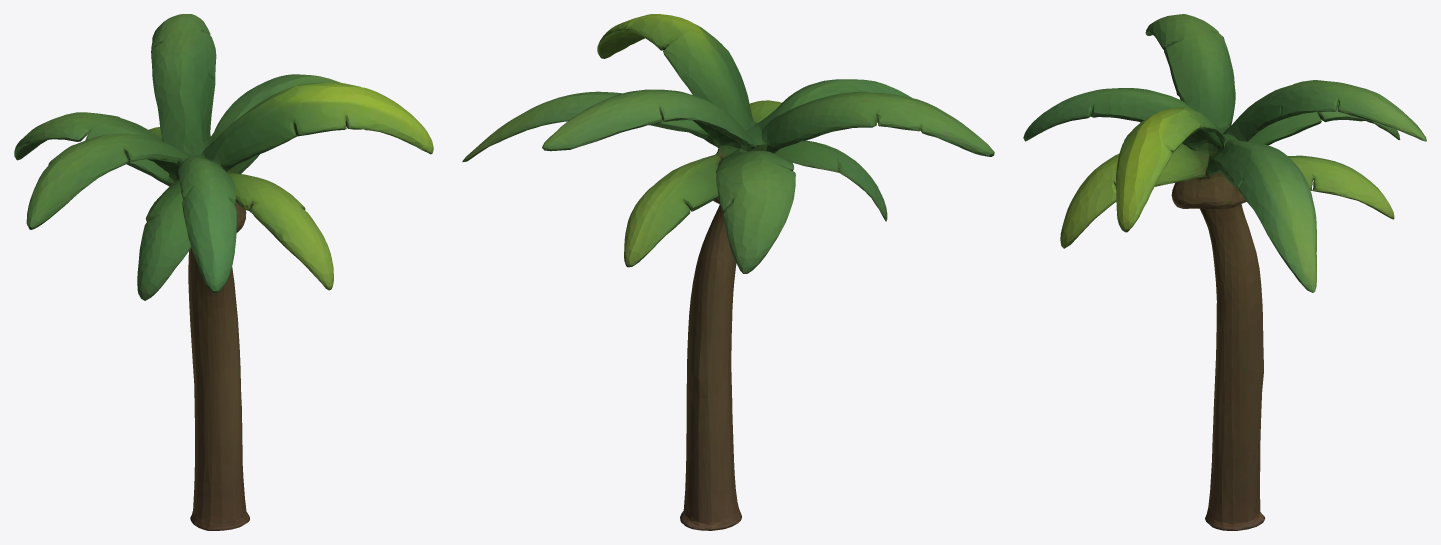
The model's file is palm-tree-1.glb.
The picture shows the model from 3 angles, left to right: view 1: azimuth 30°, elevation 25°; view 2: azimuth 150°, elevation 25°; view 3: azimuth 270°, elevation 25°; orthographic projection. The views are drawn at different scales.
Parts seen in each view (by area): view 1: world; view 2: world; view 3: world.
Boxes of the visible parts, x1,y1,x2,y2 form: world: (14,14,433,530); world: (462,14,994,530); world: (1023,14,1426,530).
Bounding box in the file's own units: 0.9725 × 0.9516 × 0.7919.
Materials: 1 (1 with a texture image).
